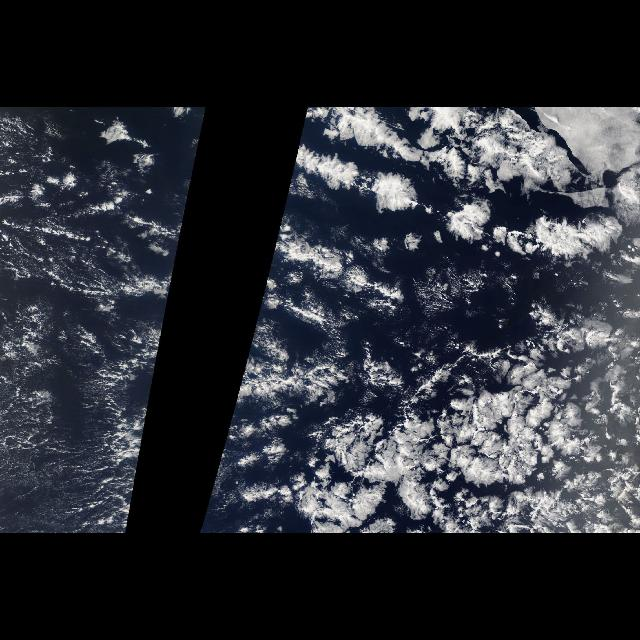Fish: (293, 148, 403, 324)
Flower: (267, 109, 639, 533)
